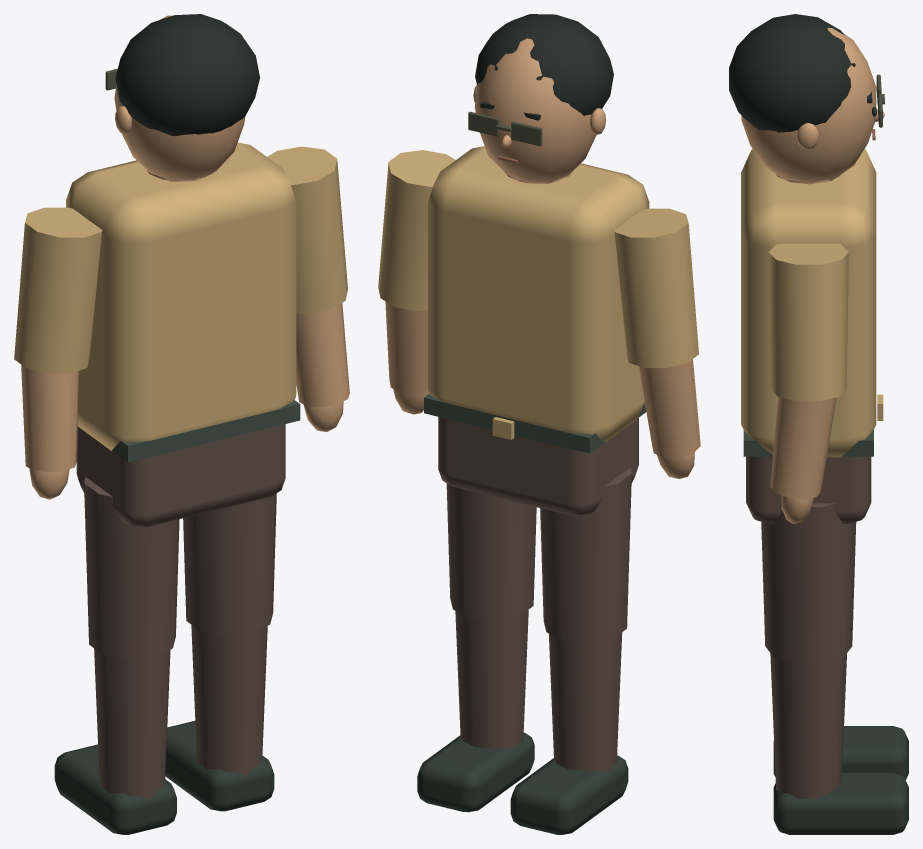
Rendered from scout-16.glb.
The picture shows the model from 3 angles, left to right: view 1: azimuth 30°, elevation 25°; view 2: azimuth 150°, elevation 25°; view 3: azimuth 270°, elevation 25°; orthographic projection. The views are drawn at different scales.
Parts seen in each view (by area): view 1: Scout character 16, left-upper-arm, right-upper-arm; view 2: Scout character 16, left-upper-arm, right-upper-arm; view 3: Scout character 16, right-upper-arm.
Part boxes in pixels (x1,y1,x2,y2): Scout character 16: [54, 14, 300, 834]; left-upper-arm: [14, 207, 102, 499]; right-upper-arm: [267, 146, 349, 431]; Scout character 16: [417, 14, 649, 834]; left-upper-arm: [614, 208, 700, 478]; right-upper-arm: [378, 150, 455, 414]; Scout character 16: [729, 14, 908, 834]; right-upper-arm: [768, 243, 848, 524].
Bounding box in the file's own units: 0.7284 × 1.72 × 0.3591.
